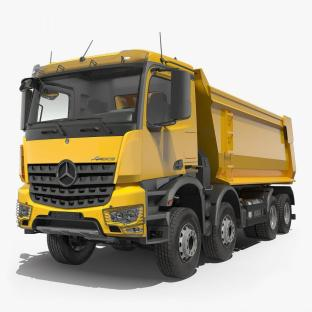Vehicle: (14, 60, 300, 268)
